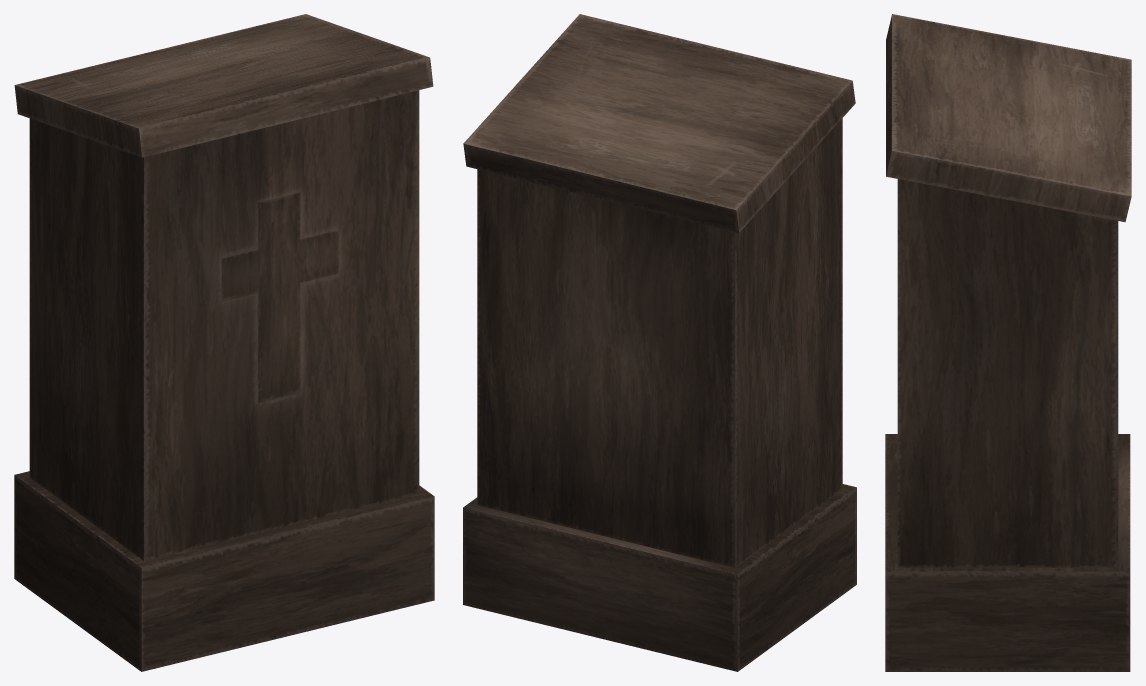
The model's file is Church.Lectern.fbx.
The picture shows the model from 3 angles, left to right: view 1: azimuth 30°, elevation 25°; view 2: azimuth 150°, elevation 25°; view 3: azimuth 270°, elevation 25°; orthographic projection. The views are drawn at different scales.
Parts seen in each view (by area): view 1: Church.Lectern; view 2: Church.Lectern; view 3: Church.Lectern.
Part boxes in pixels (x1,y1,x2,y2): Church.Lectern: (14,14,434,671); Church.Lectern: (463,14,856,671); Church.Lectern: (885,14,1131,671).
Bounding box in the file's own units: 56.85 × 100 × 42.94.
